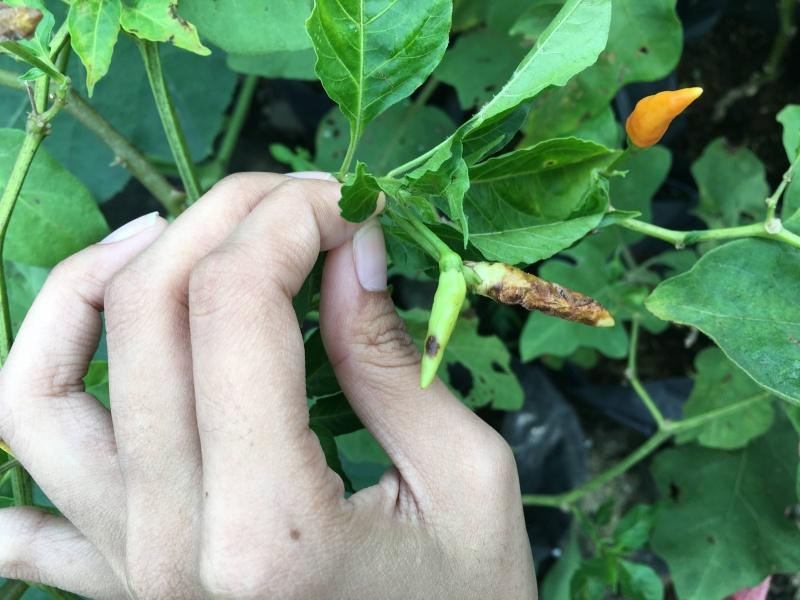antraknosa: (457, 261, 616, 330), (421, 262, 465, 388)
cabai_normal: (624, 86, 702, 148)
